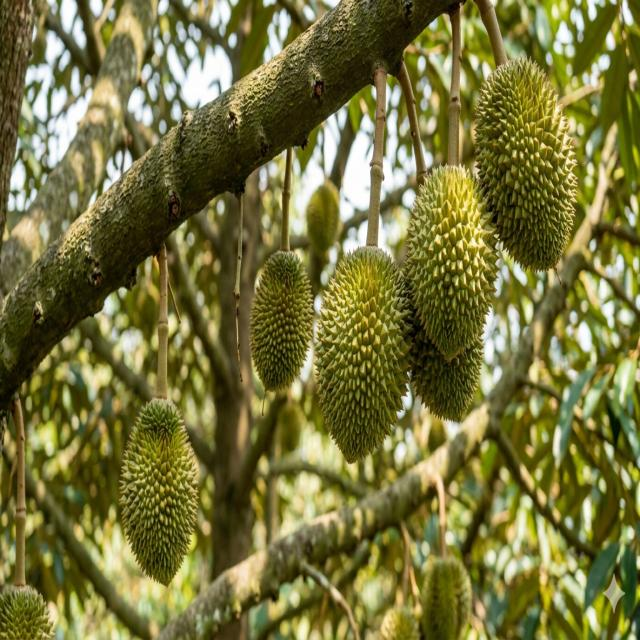immature: (401, 163, 502, 412), (472, 50, 582, 273), (314, 246, 413, 461), (118, 396, 200, 584), (248, 250, 316, 396), (0, 583, 55, 640)
